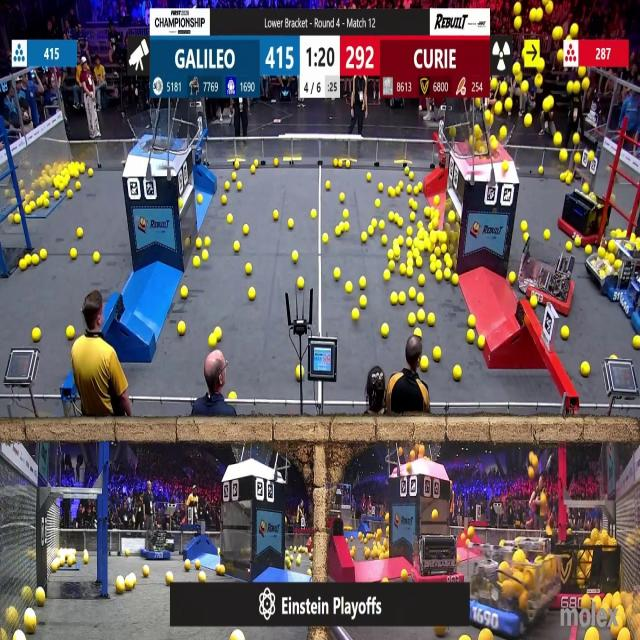ball_airborne: (542, 98, 552, 112), (554, 27, 563, 40), (560, 148, 568, 162), (536, 60, 544, 74), (515, 2, 523, 16), (570, 25, 578, 39), (555, 133, 563, 147), (577, 66, 585, 80), (494, 102, 502, 115), (515, 15, 523, 28), (499, 84, 507, 97), (529, 454, 537, 467), (534, 8, 542, 21), (504, 99, 512, 111), (491, 78, 499, 90), (535, 74, 542, 87), (564, 173, 572, 184), (522, 80, 529, 92), (474, 126, 481, 138), (583, 78, 590, 90), (567, 83, 574, 95), (525, 114, 532, 126), (545, 2, 552, 14), (514, 64, 522, 74), (419, 446, 425, 458), (451, 126, 457, 138), (573, 80, 579, 92), (485, 110, 492, 120), (572, 134, 579, 144), (574, 152, 580, 163), (491, 140, 497, 151), (528, 467, 534, 478), (502, 160, 508, 171), (500, 128, 506, 138), (474, 98, 480, 108), (558, 52, 564, 62), (589, 150, 595, 160), (411, 451, 417, 460), (516, 74, 522, 83), (407, 463, 413, 472), (540, 494, 546, 503), (584, 183, 589, 193), (468, 137, 473, 146), (398, 448, 403, 456), (522, 48, 526, 56)
ball_ground: (25, 612, 38, 635), (126, 574, 137, 590), (36, 589, 45, 607), (586, 628, 598, 640), (119, 578, 128, 594), (437, 625, 448, 638), (32, 327, 41, 341), (481, 630, 493, 640), (432, 348, 440, 362), (67, 325, 75, 339), (582, 361, 590, 375), (454, 365, 462, 379), (427, 313, 435, 326), (620, 630, 630, 640), (178, 321, 185, 335), (382, 323, 389, 337), (421, 356, 428, 370), (352, 309, 360, 321), (467, 316, 475, 328), (248, 288, 256, 300), (397, 291, 405, 303), (478, 338, 486, 350), (209, 336, 217, 348), (180, 286, 188, 298), (467, 331, 474, 344), (18, 261, 26, 272), (192, 256, 200, 267), (562, 326, 569, 338), (359, 295, 366, 307), (167, 571, 174, 583), (70, 248, 77, 260), (418, 311, 425, 323), (291, 250, 298, 262), (409, 314, 416, 326), (530, 296, 537, 308), (452, 274, 459, 286), (295, 365, 301, 379), (217, 564, 225, 574), (416, 240, 424, 250), (634, 337, 640, 350), (418, 293, 425, 304), (245, 265, 252, 276), (435, 271, 442, 282), (445, 270, 452, 281), (510, 273, 517, 284), (410, 288, 417, 299), (32, 254, 39, 265), (424, 240, 431, 251), (335, 269, 341, 281), (391, 292, 397, 304), (419, 275, 425, 287), (215, 327, 221, 339), (399, 265, 405, 277), (243, 224, 250, 234), (200, 571, 207, 581), (94, 252, 101, 262), (416, 257, 423, 267), (521, 220, 528, 230), (202, 250, 209, 260), (76, 229, 83, 239), (388, 262, 395, 272), (411, 201, 418, 211), (388, 186, 395, 196), (449, 212, 456, 222), (26, 255, 33, 265), (297, 278, 303, 289), (184, 560, 190, 571), (359, 278, 365, 289), (40, 249, 46, 260), (382, 236, 388, 247), (442, 233, 448, 244), (230, 392, 238, 400), (415, 327, 422, 336), (418, 231, 425, 240), (429, 233, 436, 242), (143, 566, 149, 576), (566, 242, 572, 252), (543, 231, 549, 241), (194, 560, 200, 570), (235, 242, 241, 252), (322, 234, 328, 244), (347, 282, 353, 292), (361, 234, 367, 244), (205, 238, 211, 248), (274, 210, 280, 220), (388, 250, 394, 260), (195, 239, 201, 249), (384, 271, 390, 281), (587, 245, 593, 255), (400, 568, 406, 578), (397, 237, 403, 247), (408, 268, 414, 278), (407, 238, 413, 248), (442, 244, 448, 254), (430, 264, 436, 274), (434, 246, 440, 256), (34, 200, 40, 210), (311, 210, 317, 219), (574, 239, 580, 248), (433, 197, 439, 206), (394, 248, 400, 257), (365, 173, 371, 182), (13, 214, 19, 223), (397, 218, 403, 227), (408, 227, 414, 236), (447, 261, 453, 270), (341, 191, 346, 201), (524, 233, 529, 243), (327, 183, 332, 193), (288, 218, 293, 228), (386, 212, 391, 222), (432, 511, 437, 521), (468, 528, 473, 538), (380, 220, 386, 228), (344, 222, 350, 230), (237, 182, 243, 190), (408, 250, 414, 258), (55, 190, 61, 198), (26, 206, 32, 214), (221, 197, 227, 205), (432, 210, 438, 218), (408, 258, 414, 266), (331, 160, 337, 168), (227, 214, 232, 223), (68, 189, 73, 198), (344, 210, 349, 219), (337, 229, 342, 238), (411, 212, 416, 221), (425, 208, 430, 217), (199, 197, 204, 206), (367, 226, 372, 235), (436, 262, 441, 271), (418, 182, 423, 191), (460, 635, 469, 640), (79, 165, 84, 174), (364, 552, 369, 561), (250, 167, 256, 174), (418, 221, 424, 228), (613, 354, 619, 361), (74, 171, 80, 178), (286, 562, 292, 569), (397, 181, 403, 188), (376, 200, 381, 208), (371, 218, 376, 226), (224, 182, 229, 190), (379, 183, 384, 191), (83, 556, 88, 564), (408, 185, 413, 193), (235, 162, 240, 170), (430, 254, 435, 262), (428, 222, 433, 230), (178, 200, 183, 208), (396, 187, 400, 196), (184, 239, 188, 248), (123, 552, 129, 558), (538, 168, 543, 175), (346, 162, 351, 169), (76, 182, 80, 190), (44, 200, 48, 208), (90, 169, 94, 177), (275, 160, 279, 168), (296, 558, 300, 566), (410, 172, 414, 180), (217, 546, 221, 554), (383, 576, 388, 582), (403, 169, 408, 175), (254, 162, 259, 168), (308, 569, 312, 576), (233, 173, 237, 180)
goal: (128, 116, 186, 152), (464, 122, 512, 162)
robot_blue: (466, 542, 556, 633), (587, 231, 640, 304), (144, 530, 175, 558)
robot_red: (550, 532, 619, 606), (520, 246, 577, 318), (560, 186, 606, 244), (417, 518, 459, 580)
